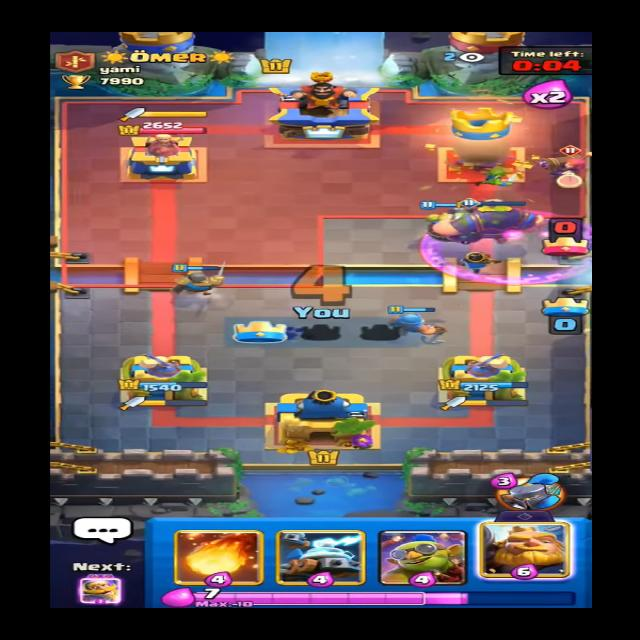Evofirecracker: (535, 144, 594, 187)
